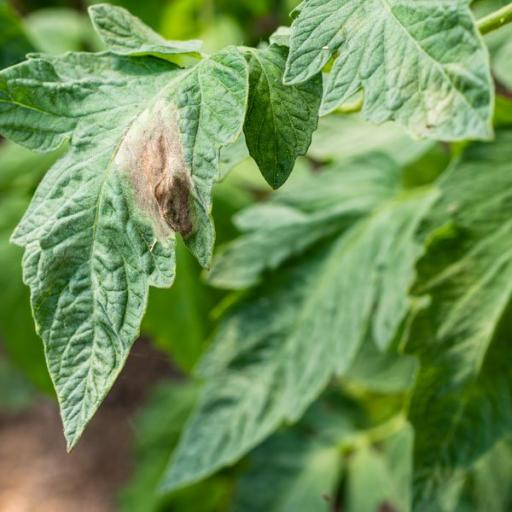disease_tomato: (1, 2, 253, 460), (282, 4, 507, 142)
